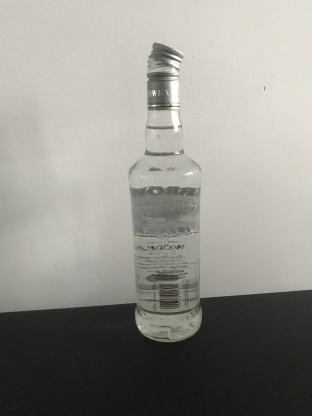nakretka: (145, 39, 185, 111)
